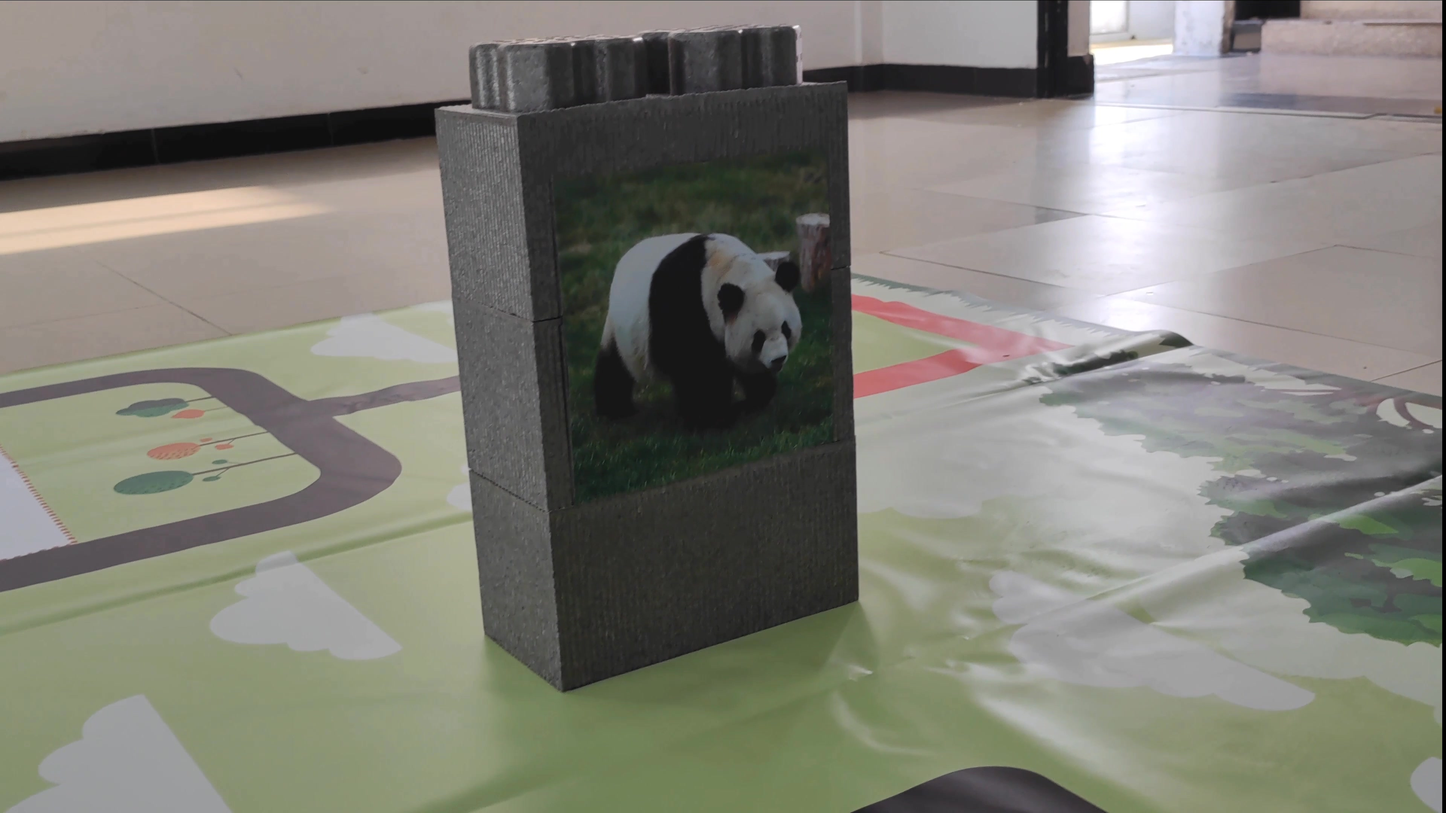panda: (583, 213, 812, 435)
